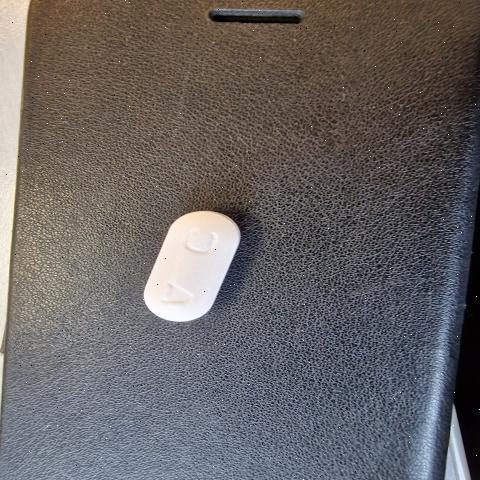Pill: (109, 194, 259, 333)
